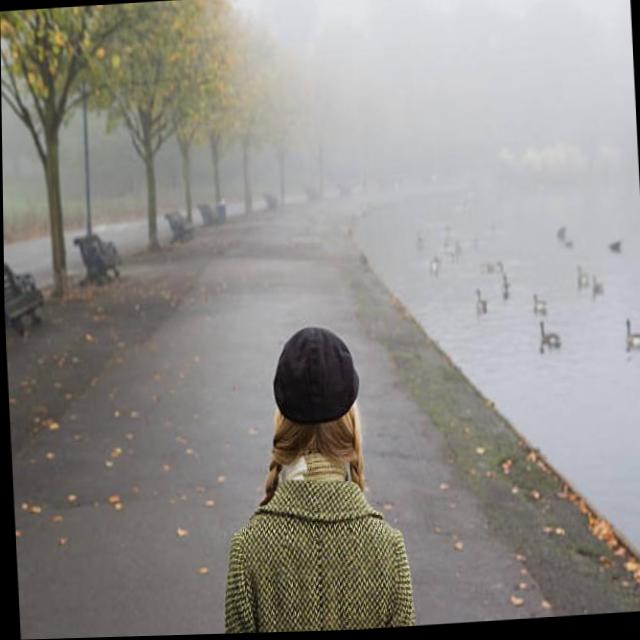no helmet: (262, 312, 380, 484)
